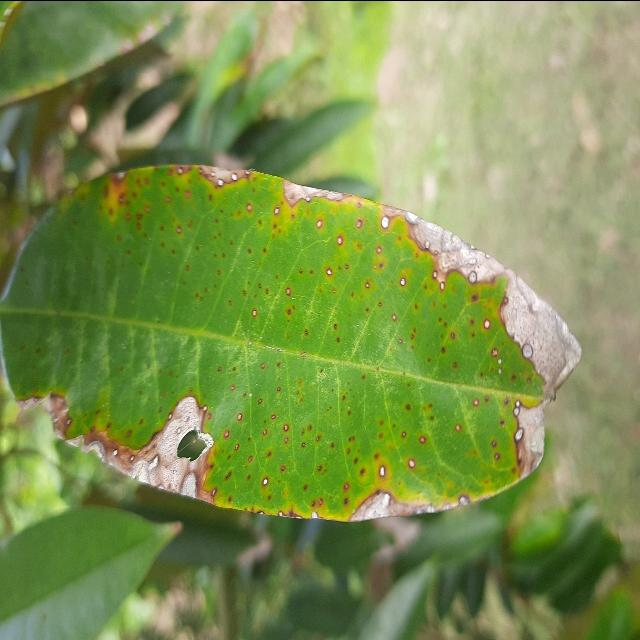Leaf Spot: (0, 147, 588, 525)
